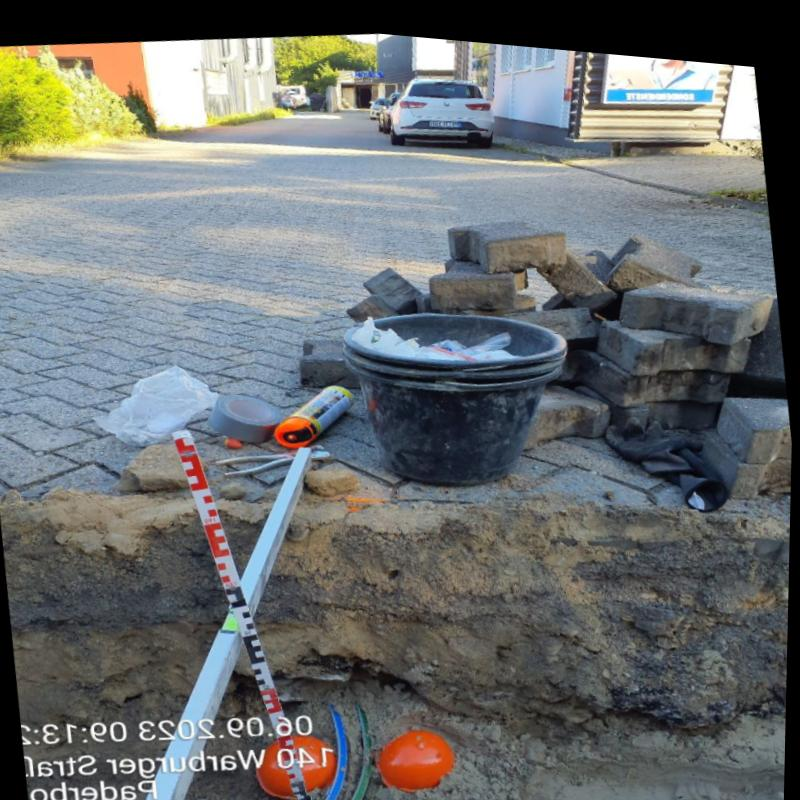Kugelmarker: (259, 728, 330, 790), (382, 720, 450, 780)
